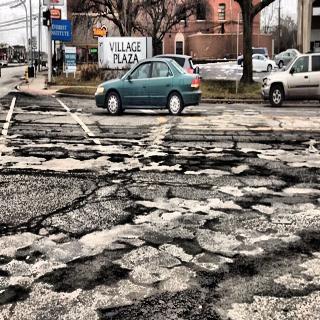alligator-crack: (2, 116, 320, 320)
